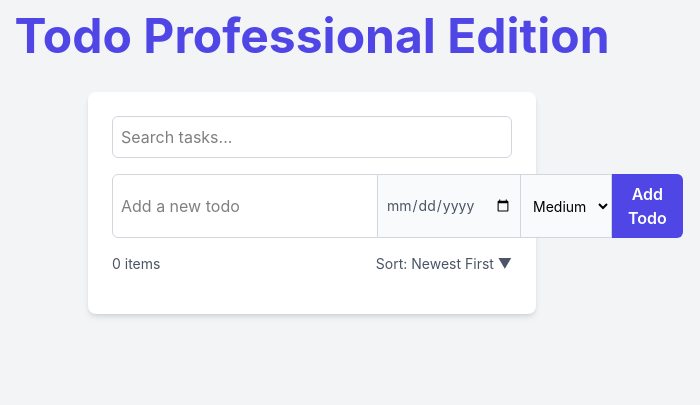
App › supports task deadlines (TC-011)
Note: Add task with deadline
Type "Task with Deadline" into the field with placeholder "Add a new todo" at (245, 206), box [112, 174, 378, 238]
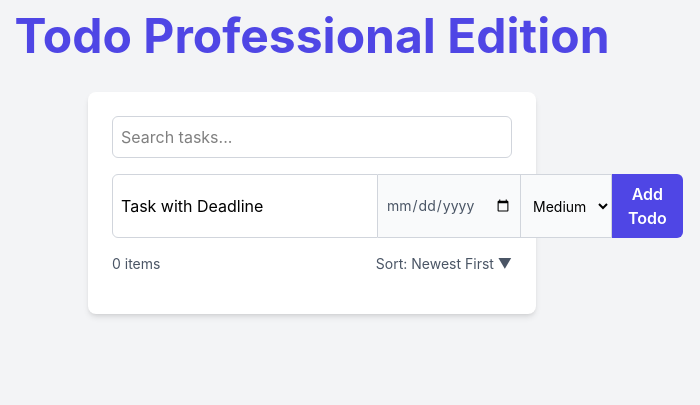
Type "2026-03-15" into the date field at (450, 206), box [378, 174, 521, 238]
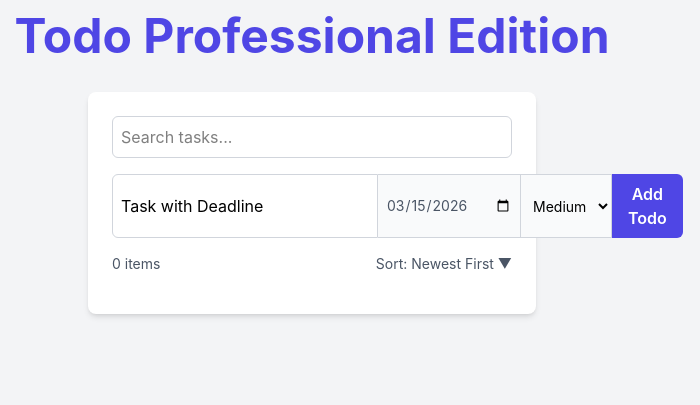
Click the button "Add Todo" at (647, 206), box [612, 174, 683, 238]
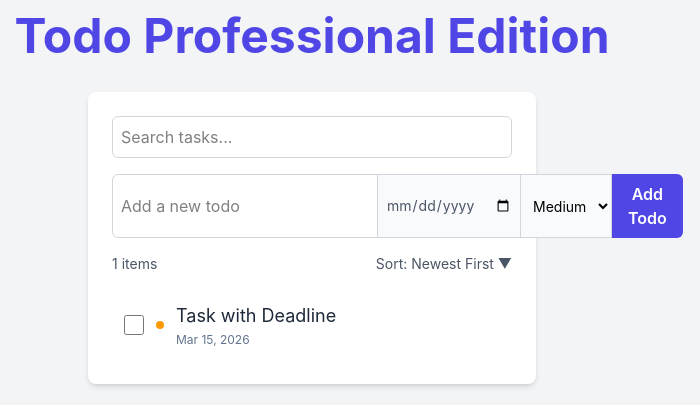
Check: the text "Task with Deadline" is shown, box [176, 302, 336, 330]
